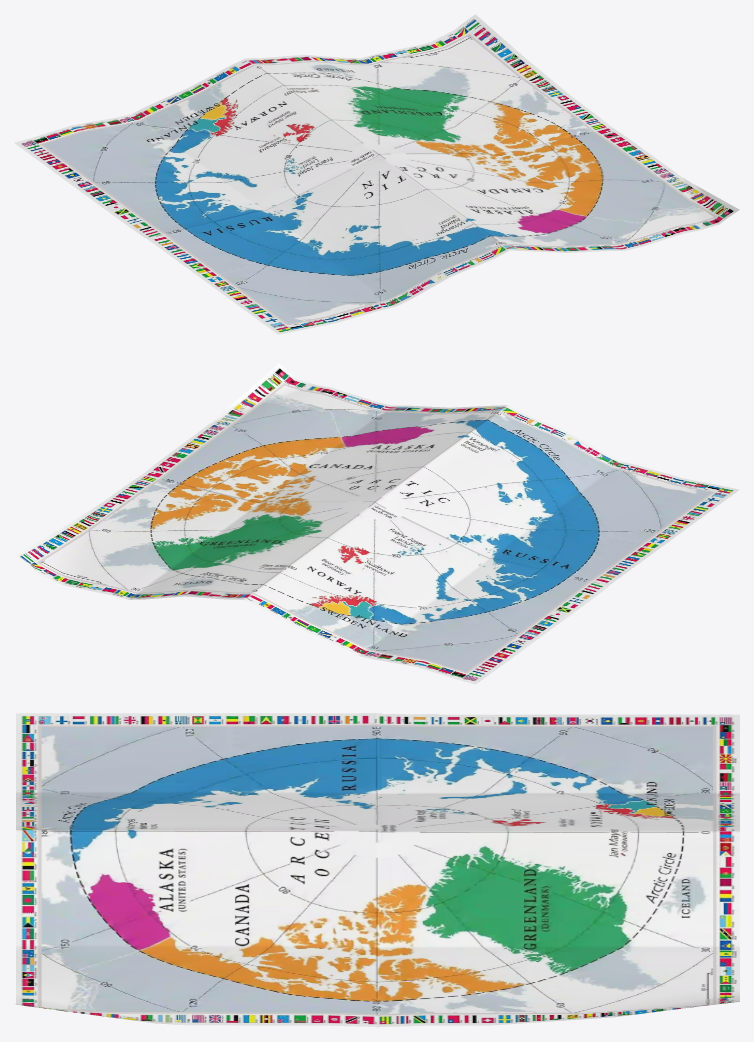
The model's file is 250610_Map.glb.
The picture shows the model from 3 angles, top to bottom: view 1: azimuth 30°, elevation 25°; view 2: azimuth 150°, elevation 25°; view 3: azimuth 270°, elevation 25°; orthographic projection. The views are drawn at different scales.
Parts seen in each view (by area): view 1: OK_Map01; view 2: OK_Map01; view 3: OK_Map01.
Boxes of the visible parts, bbox=[...] form: OK_Map01: bbox=[14, 14, 739, 334]; OK_Map01: bbox=[14, 363, 739, 684]; OK_Map01: bbox=[14, 713, 739, 1027].
Bounding box in the file's own units: 0.2514 × 0.0156 × 0.2477.
Materials: 1 (1 with a texture image).
